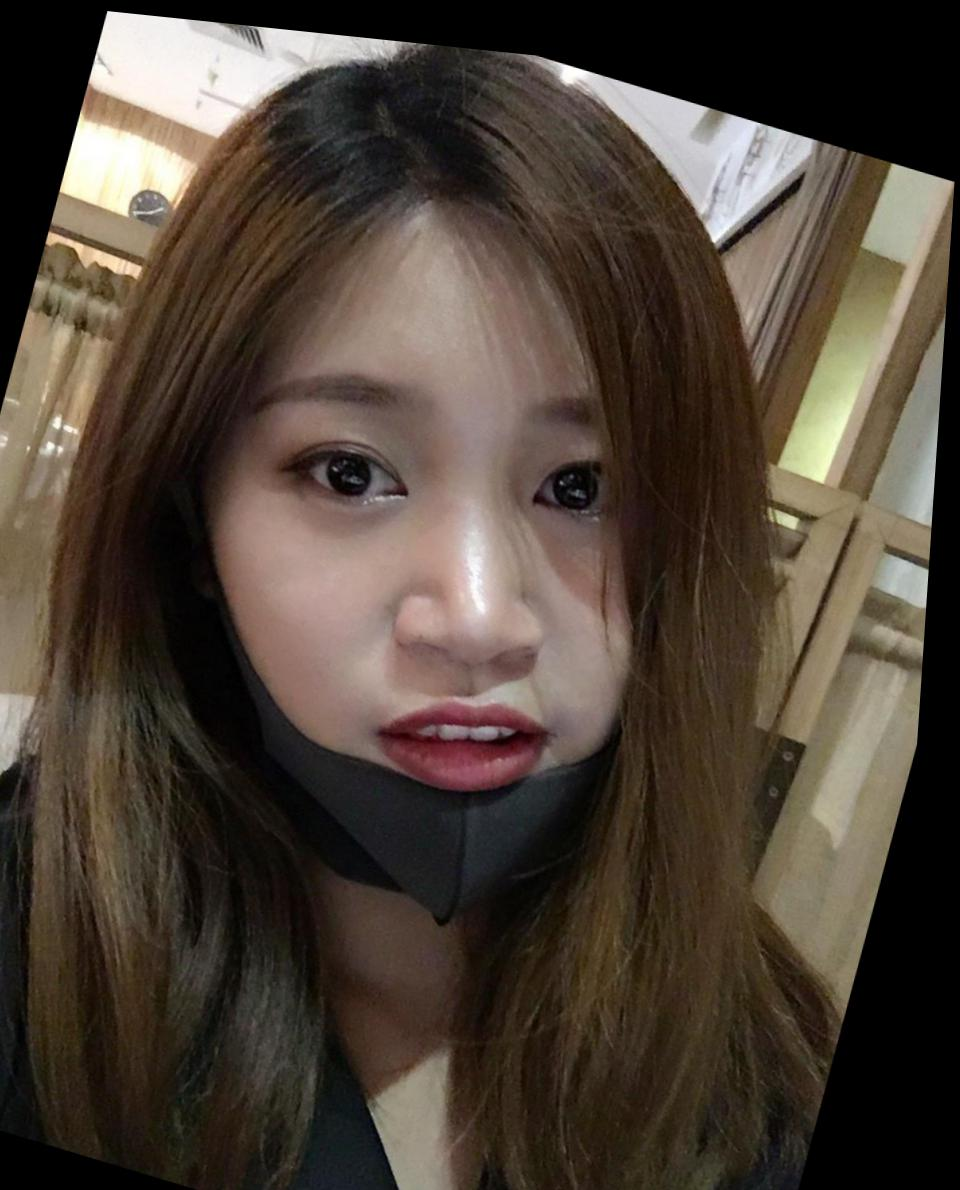WRONG: (133, 230, 773, 945)
